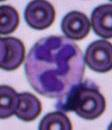N: (24, 35, 84, 97)
